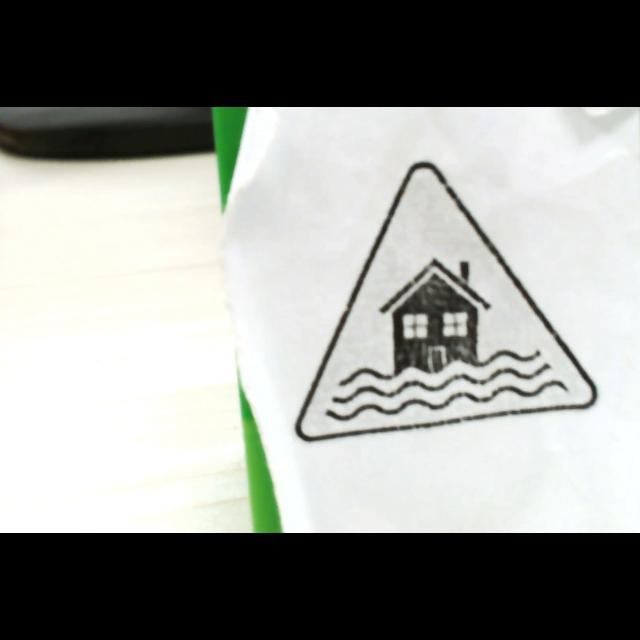Tsunami: (295, 162, 597, 442)
